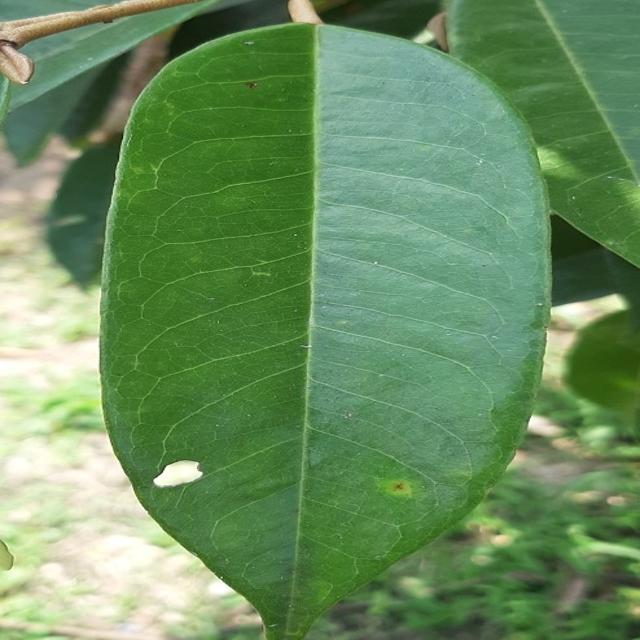No Disease: (96, 33, 572, 640)
